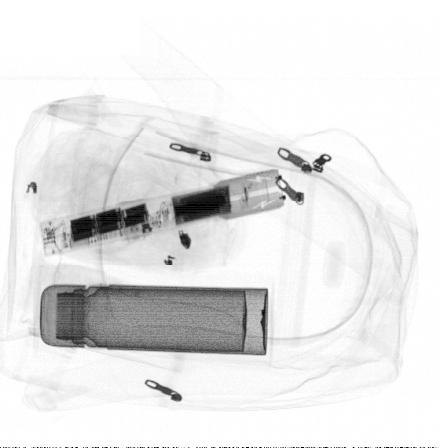Baton: (39, 167, 289, 258)
